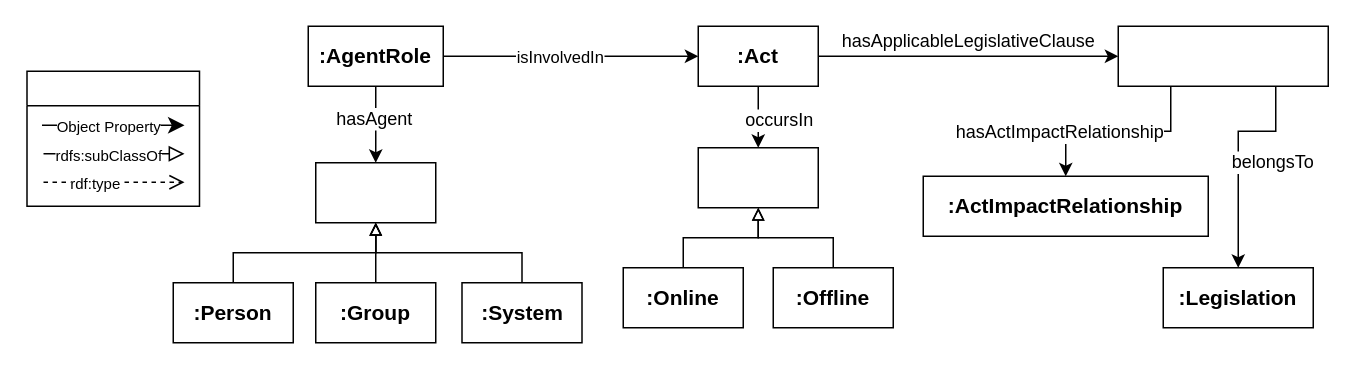
The diagram is 1355 pixels wide and 369 high, and some of its shapes have lost their labels. The shapes that lost their labels are listed below. From the top down, each one's centre as x and y in pixels, then its label:
(x=1222, y=55): :LegislativeClause
(x=113, y=138): Legend
(x=375, y=192): :Agent
(x=757, y=177): :Space
